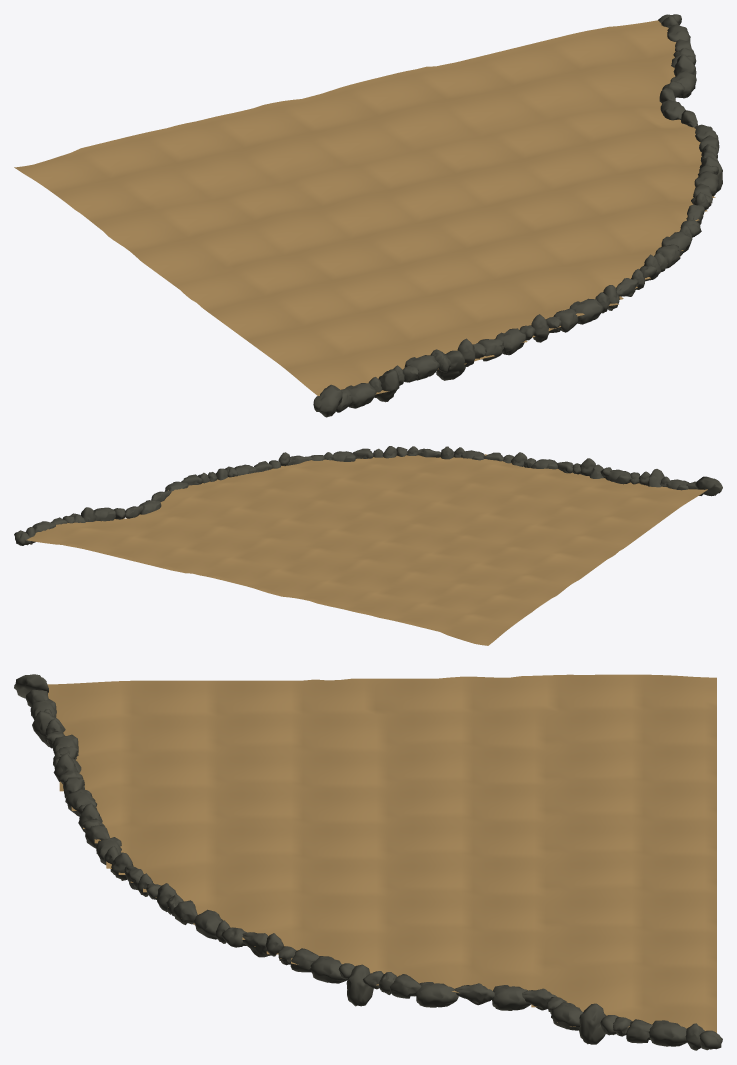
File: ground_04.fbx
3 renders of one model, top to bottom at view 1: azimuth 30°, elevation 25°; view 2: azimuth 150°, elevation 25°; view 3: azimuth 270°, elevation 25°, orthographic. The views are drawn at different scales.
Parts seen in each view (by area): view 1: polySurface_ground_04; view 2: polySurface_ground_04; view 3: polySurface_ground_04.
Part boxes in pixels (x1,y1,x2,y2): polySurface_ground_04: [14, 14, 722, 417]; polySurface_ground_04: [14, 446, 722, 645]; polySurface_ground_04: [14, 674, 722, 1050].
Bounding box in the file's own units: 436 × 27.37 × 360.
